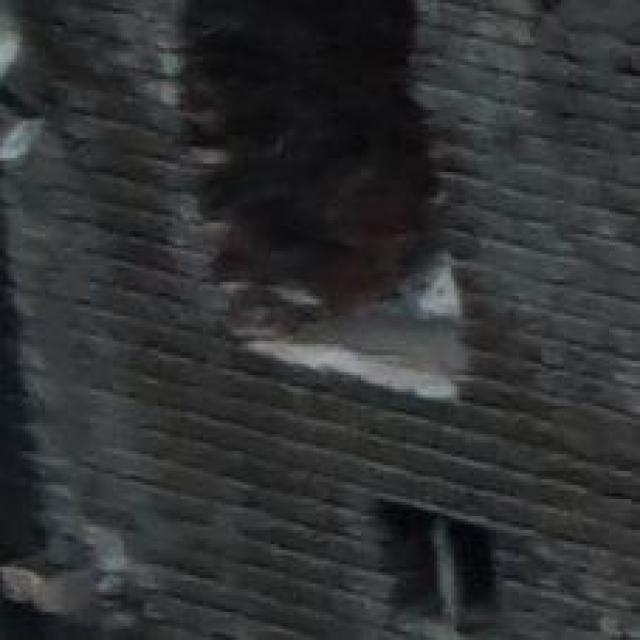Crack: (85, 9, 554, 432)
